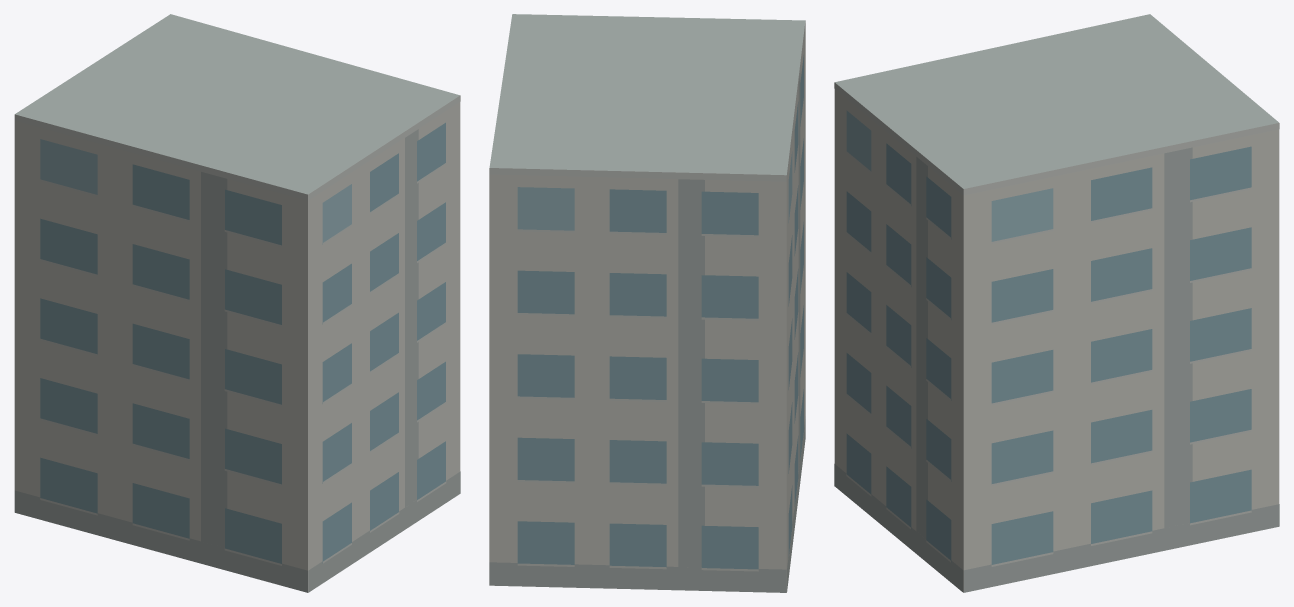
The model's file is survey-upis-32736504.glb.
The picture shows the model from 3 angles, left to right: view 1: azimuth 30°, elevation 25°; view 2: azimuth 150°, elevation 25°; view 3: azimuth 270°, elevation 25°; orthographic projection. The views are drawn at different scales.
Parts seen in each view (by area): view 1: survey-upis-32736504.tmp; view 2: survey-upis-32736504.tmp; view 3: survey-upis-32736504.tmp.
Part boxes in pixels (x1=…): survey-upis-32736504.tmp: x1=14, y1=14, x2=460, y2=592; survey-upis-32736504.tmp: x1=489, y1=14, x2=805, y2=592; survey-upis-32736504.tmp: x1=834, y1=14, x2=1279, y2=592.
Size of the model in its own units: 14.19 by 15.25 by 15.24.
